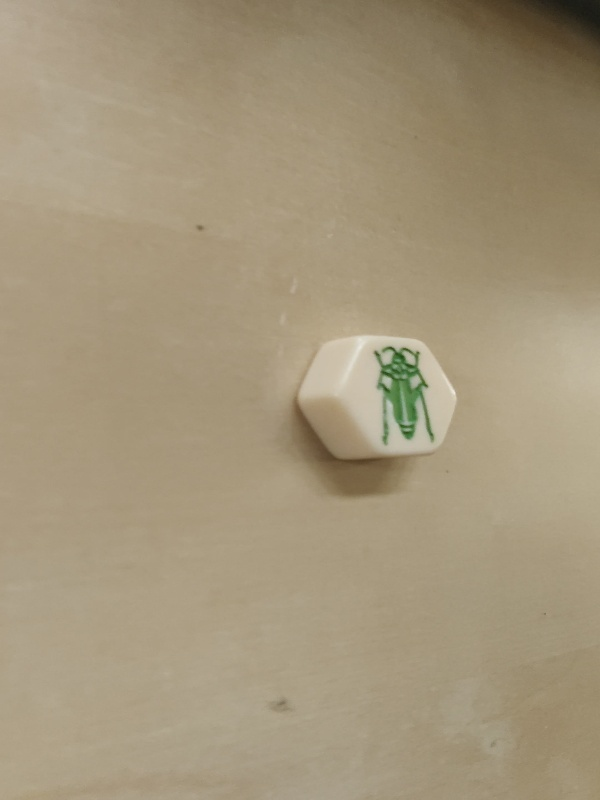white_grasshopper: (299, 334, 456, 459)
